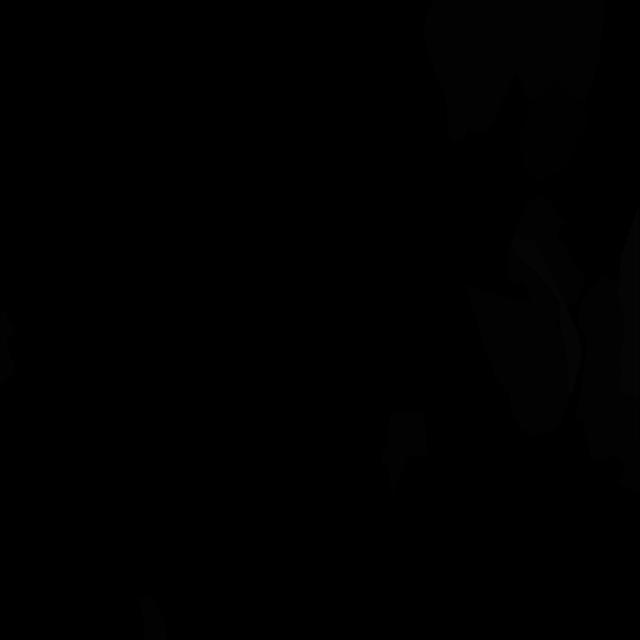cardboard: (423, 0, 605, 144), (465, 284, 569, 438), (574, 275, 640, 461), (512, 197, 586, 307), (508, 244, 560, 323), (381, 412, 428, 495), (604, 400, 640, 495), (0, 306, 16, 386), (139, 595, 167, 640)
rigid_plastic: (520, 80, 588, 183)
soft_plastic: (511, 236, 582, 394), (614, 203, 640, 400)
